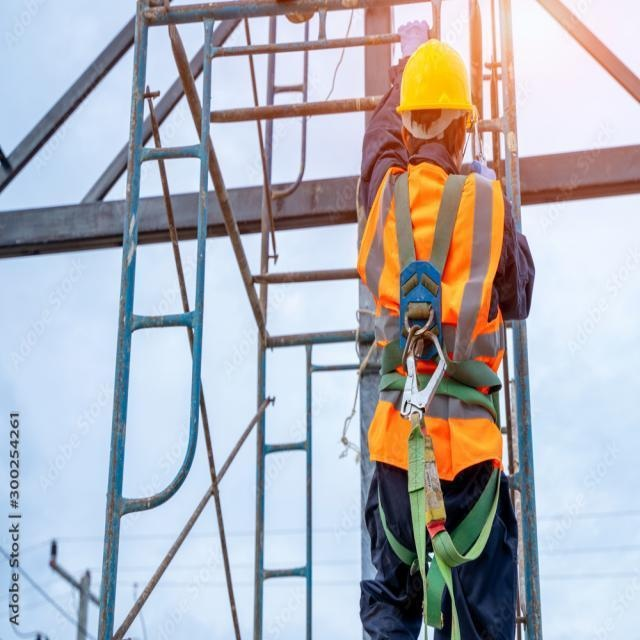Arnes_seguridad: (368, 159, 491, 424)
